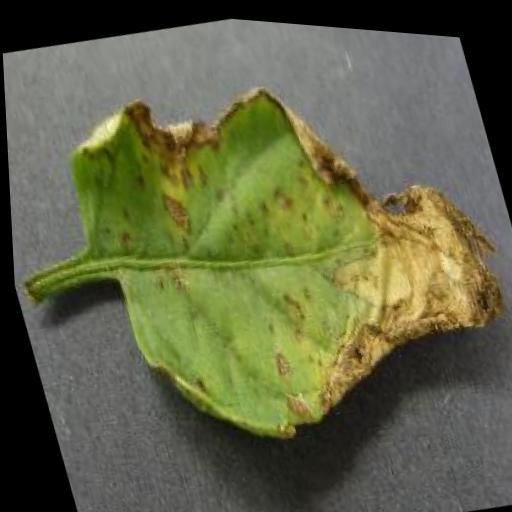Bacterial Spot: (35, 11, 512, 489)
